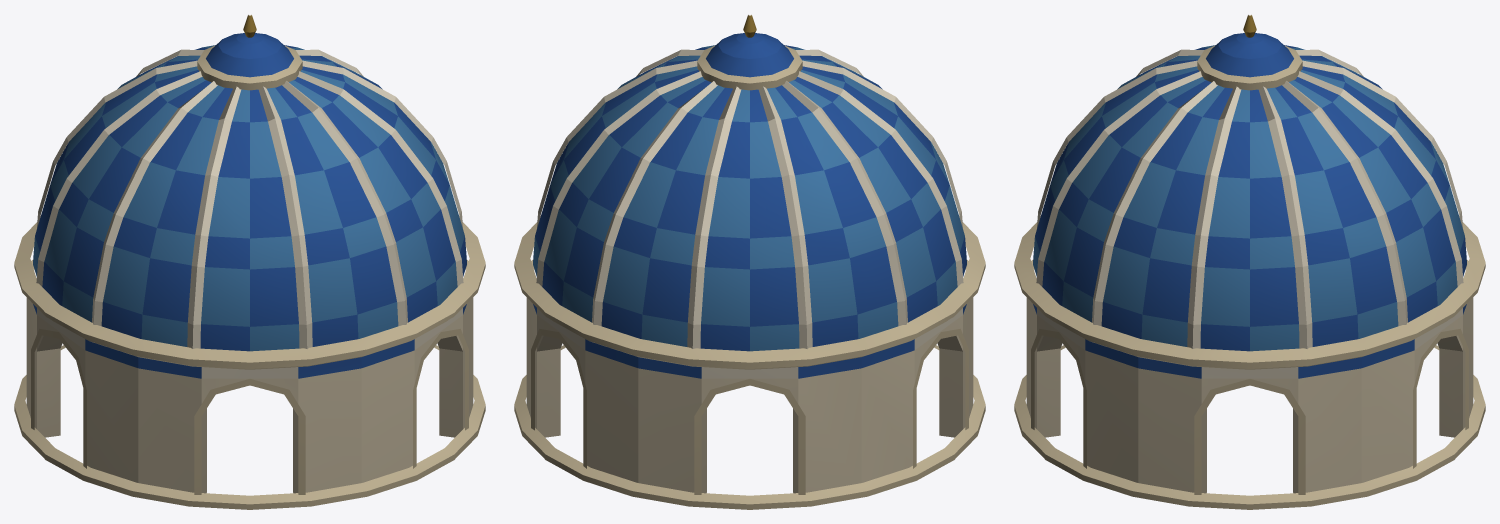
The model's file is dome.whole_12.blue.glb.
3 views of the same model, side by side, from view 1: azimuth 30°, elevation 25°; view 2: azimuth 150°, elevation 25°; view 3: azimuth 270°, elevation 25° (orthographic).
Visible parts, largest first — view 1: dome_whole_12_blue; view 2: dome_whole_12_blue; view 3: dome_whole_12_blue.
Part boxes in pixels (x1,y1,x2,y2): dome_whole_12_blue: (14, 15, 485, 509); dome_whole_12_blue: (514, 15, 985, 509); dome_whole_12_blue: (1014, 15, 1485, 509).
Size of what is drawn, in the model's own units: 7.6 by 7.03 by 7.6.
